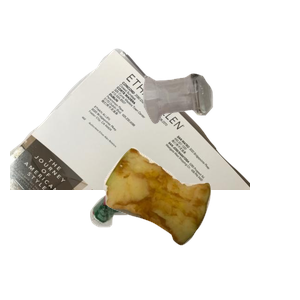glass: (141, 71, 300, 187)
paper: (10, 46, 250, 226)
plastic: (88, 182, 242, 300)
trash: (101, 145, 300, 300)
